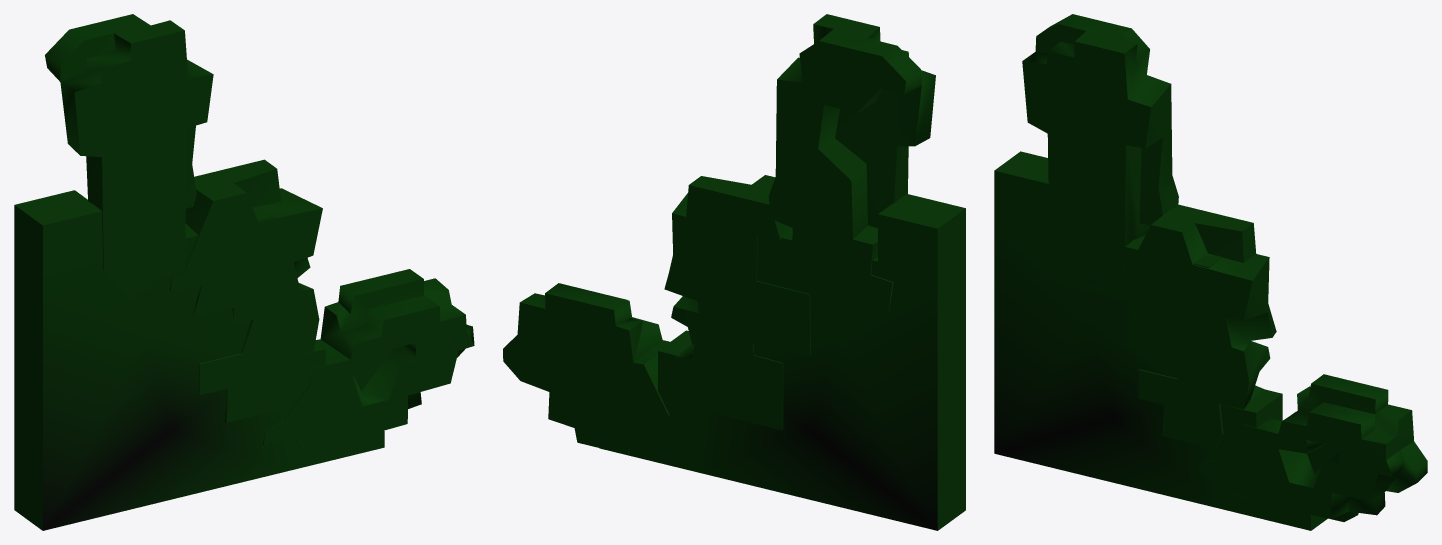
The model's file is DBK_Brick_WinWide_End.fbx.
The picture shows the model from 3 angles, left to right: view 1: azimuth 30°, elevation 25°; view 2: azimuth 150°, elevation 25°; view 3: azimuth 330°, elevation 25°; orthographic projection. The views are drawn at different scales.
Visible parts, largest first — view 1: DBK_Brick_WinWide_End; view 2: DBK_Brick_WinWide_End; view 3: DBK_Brick_WinWide_End.
Part boxes in pixels (left/top/right/bottom): DBK_Brick_WinWide_End: left=14, top=14, right=474, bottom=530; DBK_Brick_WinWide_End: left=503, top=14, right=965, bottom=530; DBK_Brick_WinWide_End: left=994, top=14, right=1427, bottom=530.
Size of the model in its own units: 179 by 181 by 21.
